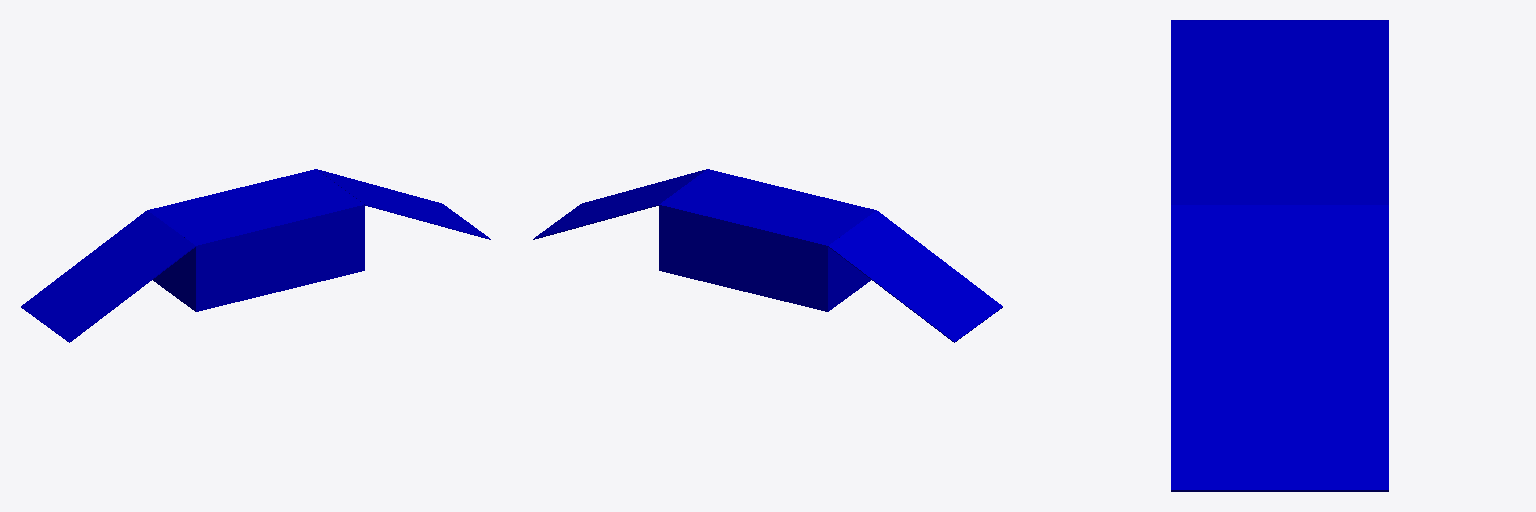
robot.urdf — ramp:
<?xml version="1.0"?>
<robot name="ramp">


    <!-- El siguiente link suelo, lo he usado para modelar el urdf con la 
    extension de urdf visualizer de vscode. Lo dejo comentado porque de lo
    contrario, daría error (no pertenece a un joint habiendo 3 links y 2 joints)
    pero no lo elimino porque podría ser útil de cara a modificar la rampa
    en posibles escenarios futuros -->
    <!-- <link name="suelo">

        <inertial>
            <origin xyz="0 0 -0.75"/>
            <mass value="1.0"/>
            <inertia ixx="1.0" ixy="0.0" ixz="0.0"
                iyy="1.0" iyz="0.0" izz="1.0"/>
        </inertial>

        <visual>
            <origin xyz="0 0 -0.75"/>
            <geometry>
                <box size="10 3 0"/>
            </geometry>
            <material name="blue">
                <color rgba="0 0 0.8 1"/>
            </material>
        </visual>

        <collision>
            <origin xyz="0 0 -0.75"/>
            <geometry>
                <box size="10 3 0"/>
            </geometry>
        </collision>

    </link> -->

    <link name="body_link">

        <inertial>
            <origin xyz="0 0 0"/>
            <mass value="1.0"/>
            <inertia ixx="1.0" ixy="0.0" ixz="0.0"
                iyy="1.0" iyz="0.0" izz="1.0"/>
        </inertial>

        <visual>
            <origin xyz="0 0 0"/>
            <geometry>
                <box size="4 2 1.5"/>
            </geometry>
            <material name="blue">
                <color rgba="0 0 0.8 1"/>
            </material>
        </visual>

        <collision>
            <origin xyz="0 0 0"/>
            <geometry>
                <box size="4 2 1.5"/>
            </geometry>
        </collision>

    </link>

    <link name="up_link">

        <inertial>
            <origin rpy="0 0 0" xyz="0 0 0" />
            <mass value="10.0"/>
            <inertia ixx="1.0" ixy="0.0" ixz="0.0"
                iyy="1.0" iyz="0.0" izz="1.0"/>
        </inertial>

        <visual>
            <origin rpy="0 0 0" xyz="0 0 0" />
            <geometry>
                <box size="3.35 2 0.02"/>
            </geometry>
            <material name="blue">
                <color rgba="0 0 0.8 1"/>
            </material>
        </visual>

        <collision>
            <origin rpy="0 0 0" xyz="0 0 0" />
            <geometry>
                <box size="3.35 2 0.02"/>
            </geometry>
        </collision>

    </link>

    <link name="down_link">

        <inertial>
            <origin rpy="0 0 0" xyz="0 0 0" />
            <mass value="10.0"/>
            <inertia ixx="1.0" ixy="0.0" ixz="0.0"
                iyy="1.0" iyz="0.0" izz="1.0"/>
        </inertial>

        <visual>
            <origin rpy="0 0 0" xyz="0 0 0" />
            <geometry>
                <box size="3.35 2 0.02"/>
            </geometry>
            <material name="blue">
                <color rgba="0 0 0.8 1"/>
            </material>
        </visual>

        <collision>
            <origin rpy="0 0 0" xyz="0 0 0" />
            <geometry>
                <box size="3.35 2 0.02"/>
            </geometry>
        </collision>

    </link>

    <joint name="up_to_body" type="fixed">
        <parent link="body_link"/>
        <child link="up_link"/>
        <dynamics damping="0.0" friction="0.0001"/>

        <origin xyz="-3.5 0 0" rpy="0 -0.46 0"/>
        <axis xyz="0 0 0"/>
    </joint>

    <joint name="body_to_down" type="fixed">
        <parent link="body_link"/>
        <child link="down_link"/>
        <dynamics damping="0.0" friction="0.0001"/>

        <origin rpy="0 0.46 0" xyz="3.5 0 0" />
        <axis xyz="0 0 0"/>
    </joint>

</robot>

--- Render facts (derived) ---
Views: 3 orthographic renders of the robot side by side, from view 1: azimuth 30°, elevation 25°; view 2: azimuth 150°, elevation 25°; view 3: azimuth 270°, elevation 25°.
Model ramp with 3 links and 2 joints (2 fixed), rooted at body_link, posed all joints at 0.
Links seen in each view (by area): view 1: body_link, up_link, down_link; view 2: body_link, up_link, down_link; view 3: down_link, body_link.
Link boxes in pixels (x1,y1,x2,y2): body_link: [148, 169, 364, 311]; up_link: [21, 210, 195, 342]; down_link: [317, 169, 490, 239]; body_link: [659, 169, 875, 311]; up_link: [828, 210, 1002, 342]; down_link: [533, 169, 706, 239]; down_link: [1171, 205, 1388, 491]; body_link: [1171, 21, 1388, 204].
Bounding box of the posed robot: 10.01 × 2 × 1.51 m (x, y, z).
Geometry: primitives only (box / cylinder / sphere), no mesh files.